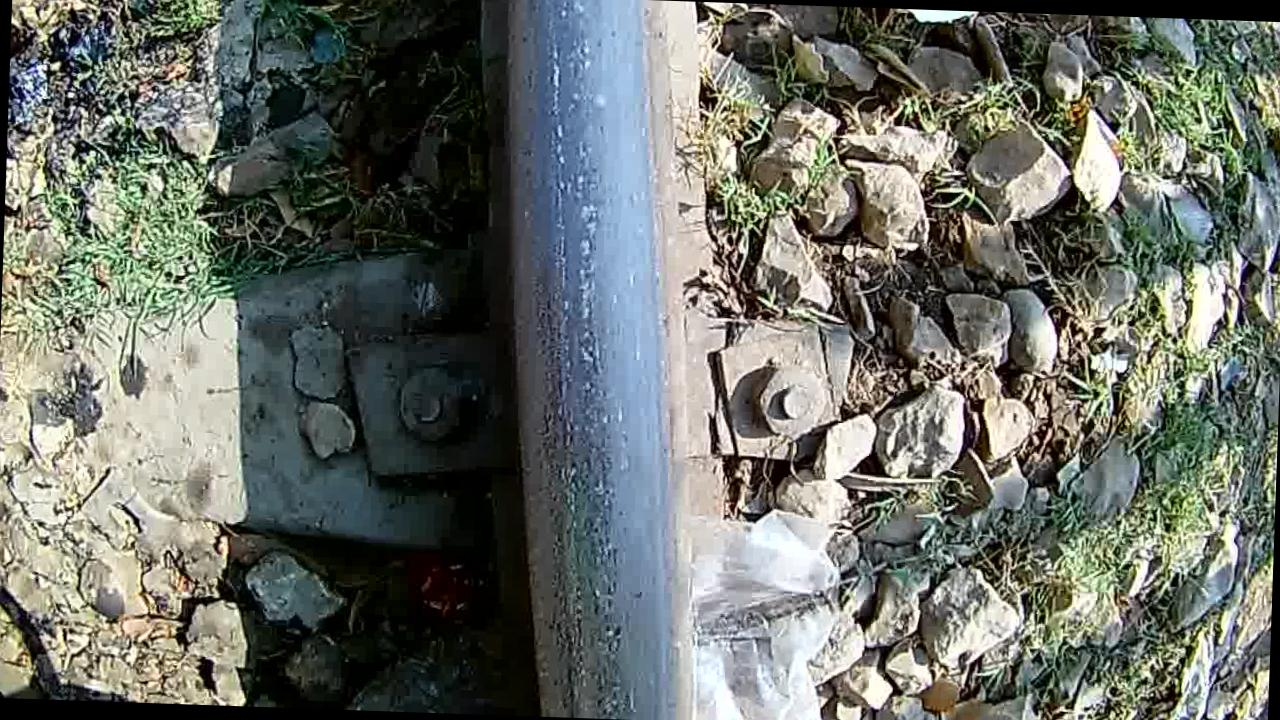clip_missing: (503, 0, 662, 719)
